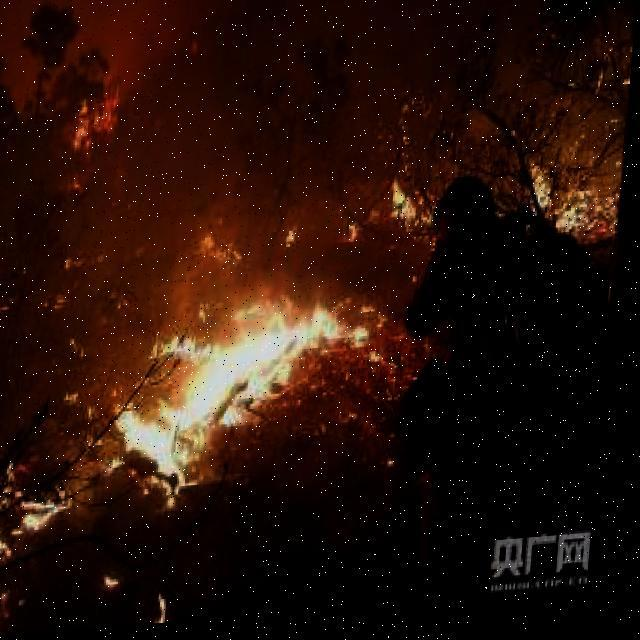Fire: (106, 282, 356, 496), (0, 486, 79, 626), (508, 155, 606, 255), (382, 150, 446, 246)
Smoke: (168, 36, 363, 203)
